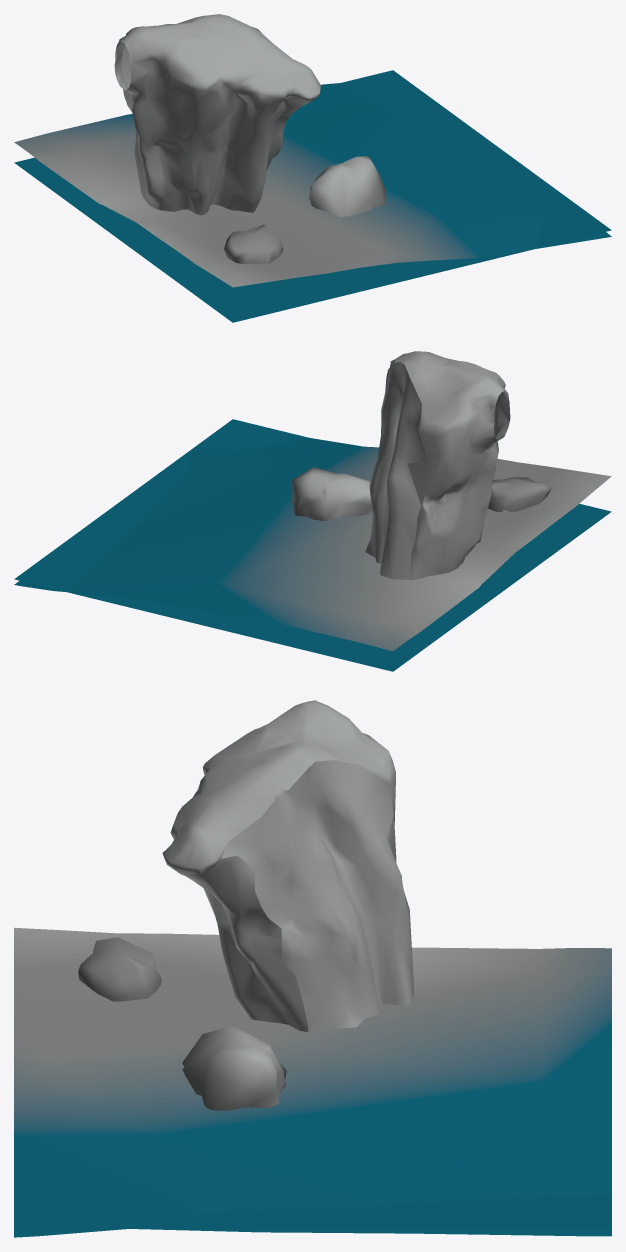
3 renders of one model, top to bottom at view 1: azimuth 30°, elevation 25°; view 2: azimuth 150°, elevation 25°; view 3: azimuth 270°, elevation 25°, orthographic. The views are drawn at different scales.
Parts seen in each view (by area): view 1: G:\FFXIV-MapTools\exports\s1f3\bg\ffxiv\sea_s1\fld\s1f3\bgpl (×11); view 2: G:\FFXIV-MapTools\exports\s1f3\bg\ffxiv\sea_s1\fld\s1f3\bgpl (×11); view 3: G:\FFXIV-MapTools\exports\s1f3\bg\ffxiv\sea_s1\fld\s1f3\bgpl (×11).
Boxes of the visible parts, x1,y1,x2,y2 form: G:\FFXIV-MapTools\exports\s1f3\bg\ffxiv\sea_s1\fld\s1f3\bgpl (×11): (14,14,611,322); G:\FFXIV-MapTools\exports\s1f3\bg\ffxiv\sea_s1\fld\s1f3\bgpl (×11): (14,351,611,671); G:\FFXIV-MapTools\exports\s1f3\bg\ffxiv\sea_s1\fld\s1f3\bgpl (×11): (14,700,611,1237).
Size of the model in its own units: 128 by 70.8 by 128.
